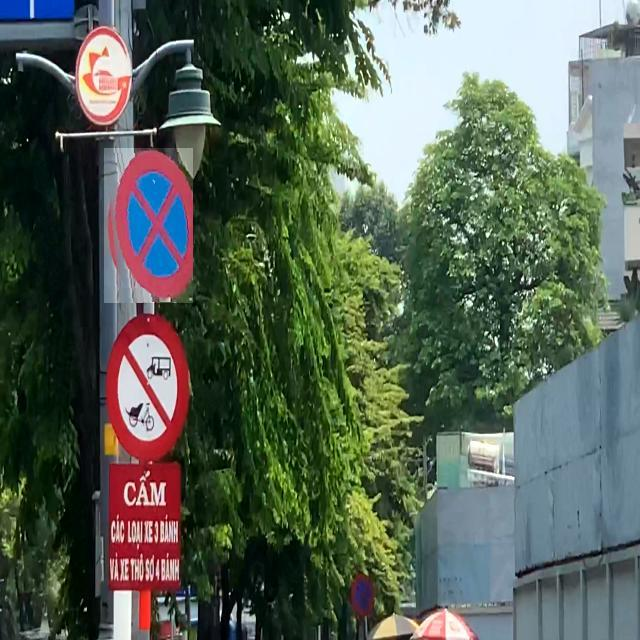P-130: (104, 148, 193, 303)
